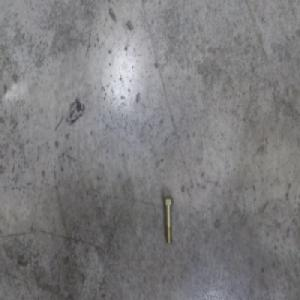Bolt: (162, 195, 174, 245)
